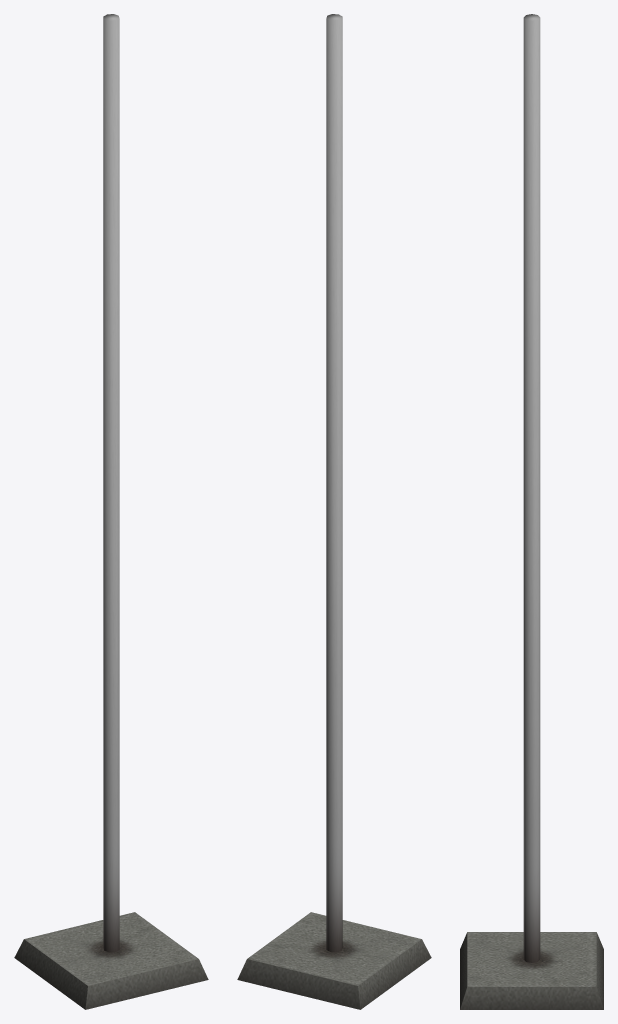
The model's file is Parts_Pillar_2400.fbx.
3 renders of one model, left to right at view 1: azimuth 30°, elevation 25°; view 2: azimuth 150°, elevation 25°; view 3: azimuth 270°, elevation 25°, orthographic.
Parts seen in each view (by area): view 1: 900_pillar_2400; view 2: 900_pillar_2400; view 3: 900_pillar_2400.
Part boxes in pixels (x1,y1,x2,y2): 900_pillar_2400: (14, 14, 208, 1009); 900_pillar_2400: (237, 14, 431, 1009); 900_pillar_2400: (460, 14, 603, 1009).
Bounding box in the file's own units: 0.325 × 2.4 × 0.325.
